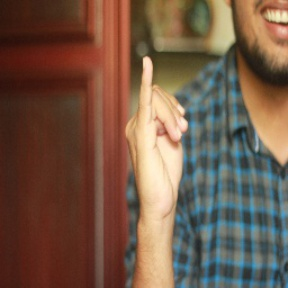I: (123, 55, 190, 215)
